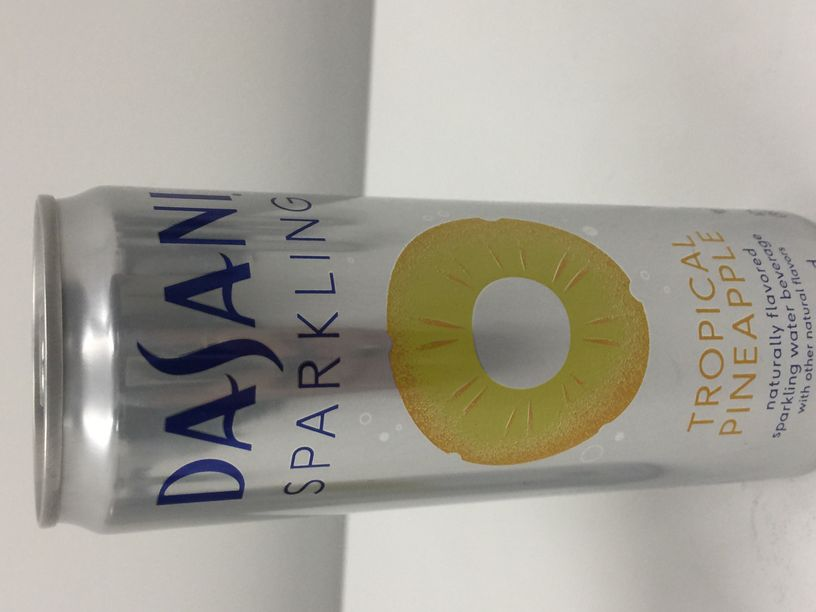pineapple: (36, 184, 816, 537)
